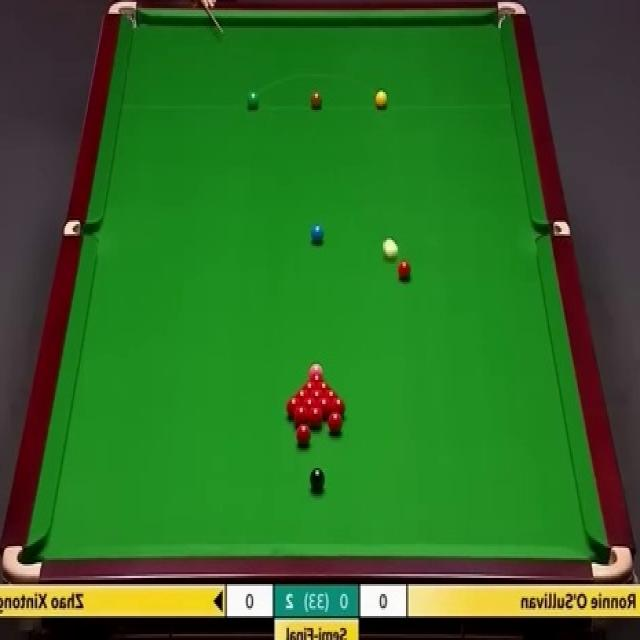black-ball: (310, 468, 324, 490)
blue-ball: (310, 222, 324, 243)
brown-ball: (310, 89, 323, 111)
green-ball: (247, 89, 260, 110)
pink-ball: (306, 362, 324, 376)
red-ball: (327, 412, 341, 433), (398, 261, 412, 282), (297, 424, 310, 446), (286, 396, 300, 415), (294, 406, 306, 428), (317, 398, 330, 418), (295, 389, 307, 410), (331, 399, 345, 417), (309, 408, 322, 427), (303, 399, 315, 419), (307, 392, 324, 398), (324, 391, 338, 398)
white-ball: (384, 237, 399, 260)
yellow-ball: (375, 90, 387, 110)
